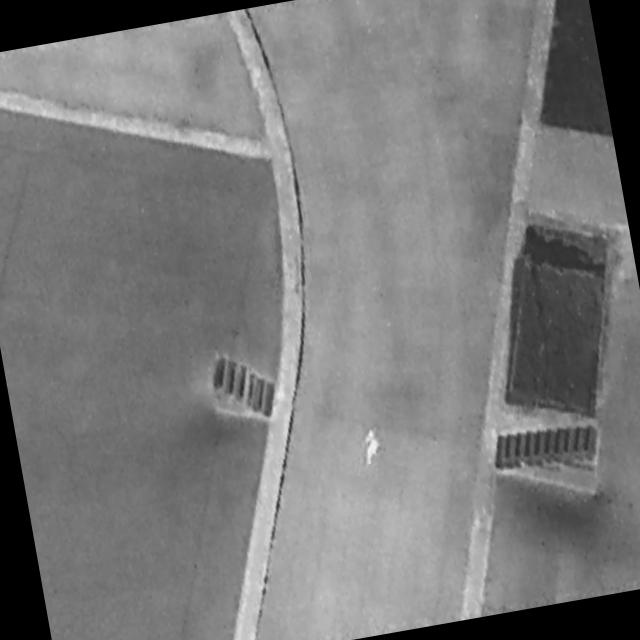person: (356, 421, 389, 471)
